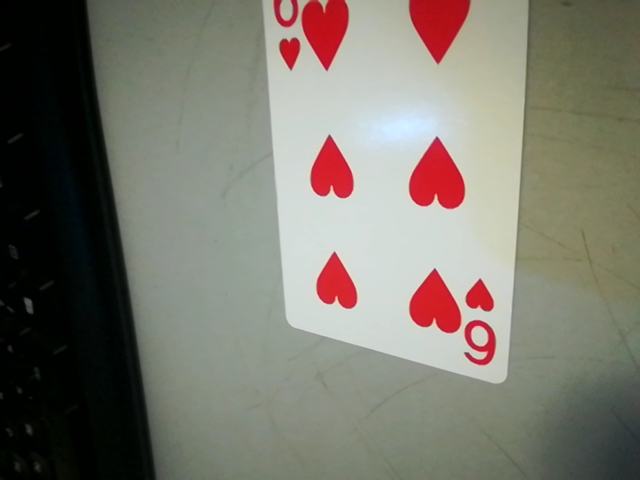hx 6: (457, 274, 507, 376)
